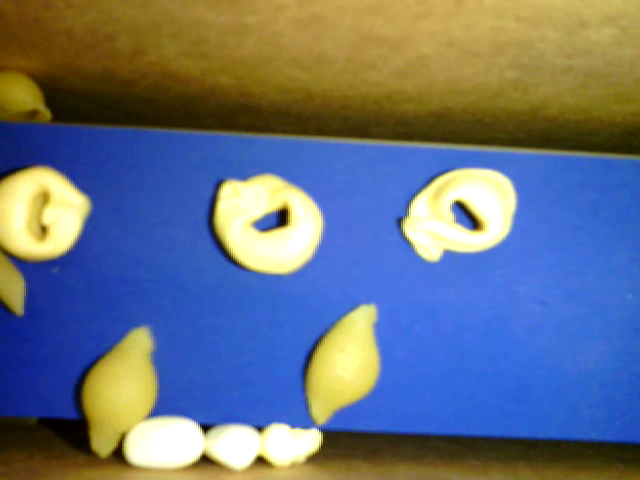penne: (1, 252, 26, 319)
shell: (74, 318, 161, 459), (304, 295, 382, 427), (2, 67, 53, 126)
tortellini: (206, 171, 327, 274), (394, 166, 517, 267), (1, 164, 94, 263)
